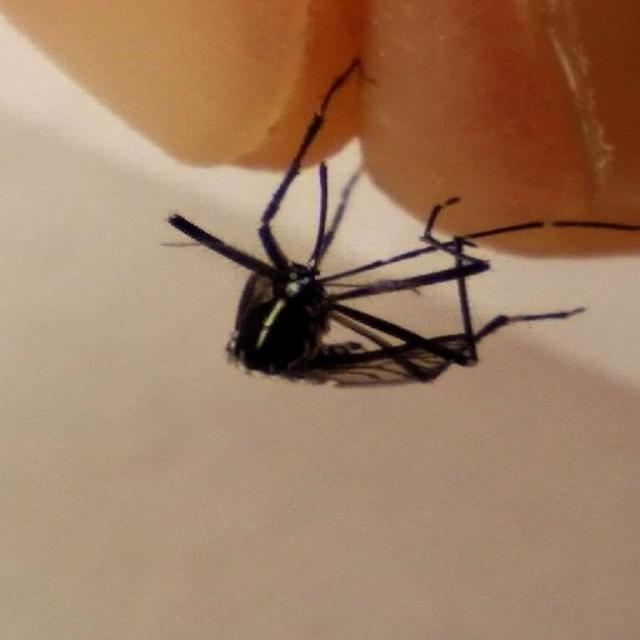albopictus: (134, 92, 624, 405)
